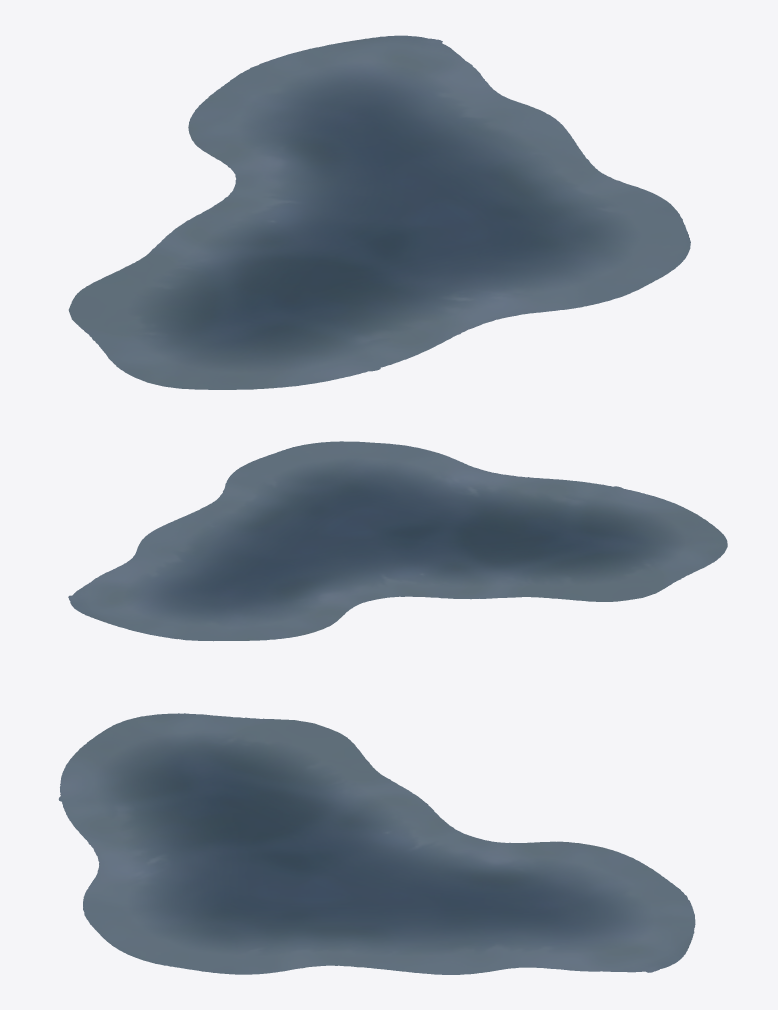
Rendered from fx_map_forest_pool003_rw.FBX.
The picture shows the model from 3 angles, top to bottom: view 1: azimuth 30°, elevation 25°; view 2: azimuth 150°, elevation 25°; view 3: azimuth 270°, elevation 25°; orthographic projection. The views are drawn at different scales.
Visible parts, largest first — view 1: fx_map_forest_pool003; view 2: fx_map_forest_pool003; view 3: fx_map_forest_pool003.
Part boxes in pixels (x1,y1,x2,y2): fx_map_forest_pool003: (68,35,690,389); fx_map_forest_pool003: (68,441,727,641); fx_map_forest_pool003: (58,713,695,974).
Bounding box in the file's own units: 276 × 1.84e-14 × 300.
